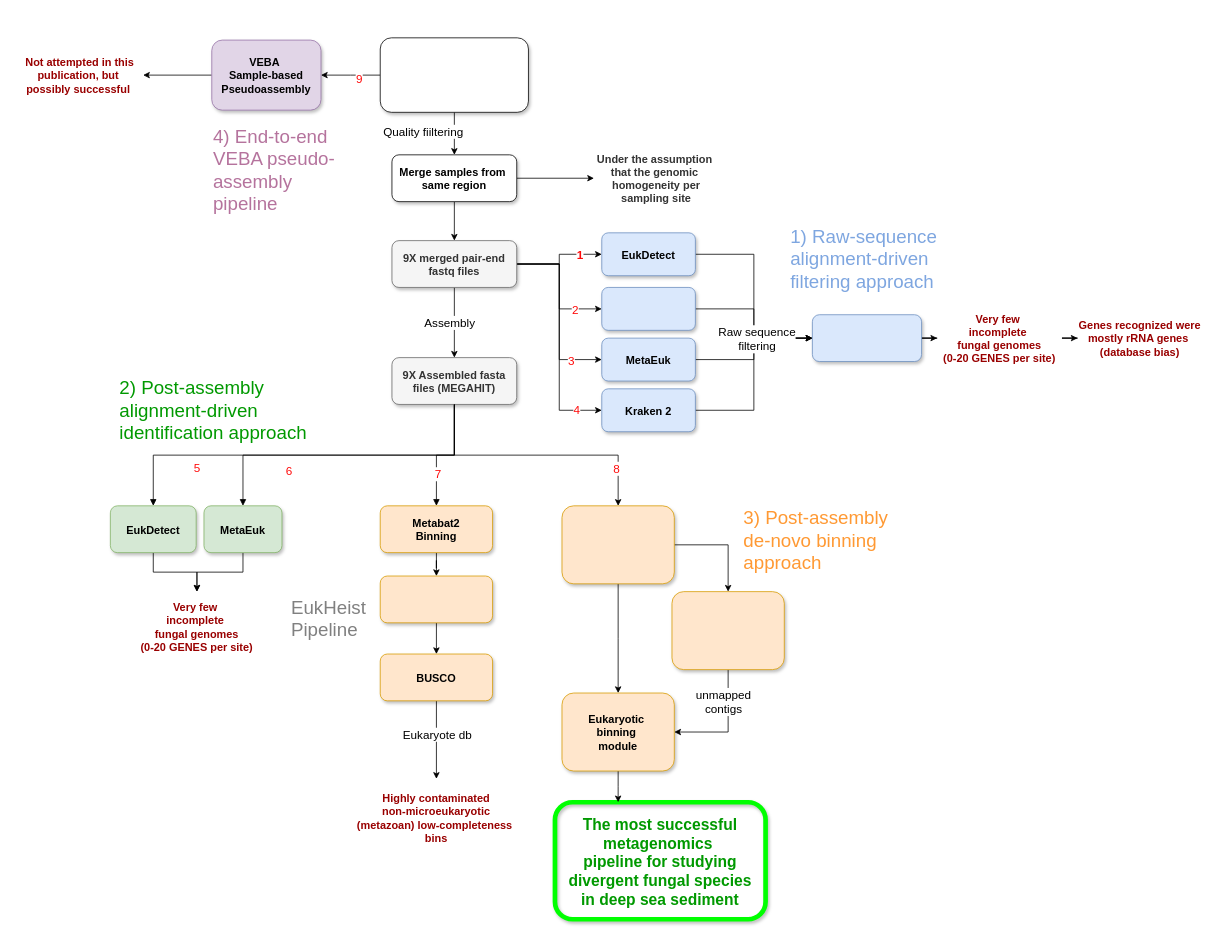
Image size: 1220x941. Some labels were removed from this diagram. Each missing label, with the centre of its shape:
"ASSEMBLY Using MEGAHIT" belongs at pixel 867 339.
"CCMetagen" belongs at pixel 649 310.
"EukRep" belongs at pixel 436 600.
"Global & Local Metagenomic Samples (50X Samples)" belongs at pixel 454 76.
"Prokaryotic binning module" belongs at pixel 728 631.
"VEBA Site-based Pseuo-assembly Pipeline" belongs at pixel 618 545.
